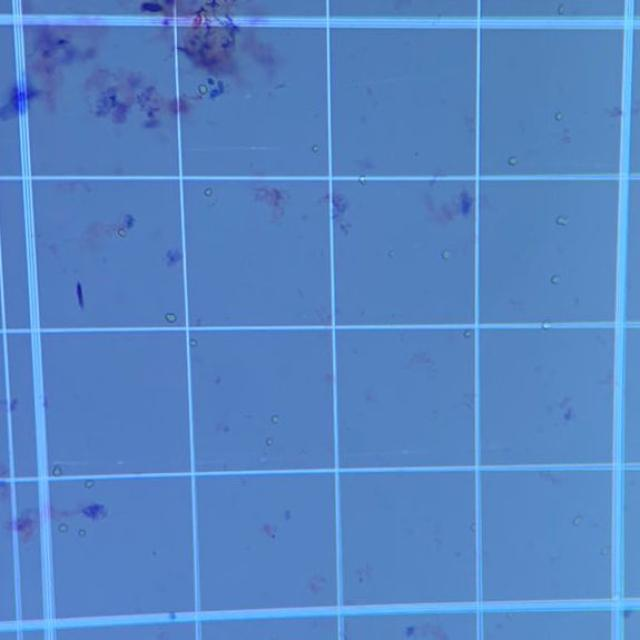Cell: (165, 249, 182, 266), (164, 312, 179, 324), (599, 546, 614, 558), (610, 590, 623, 603), (469, 522, 484, 533), (556, 216, 570, 227), (550, 274, 562, 285), (52, 465, 63, 476), (507, 155, 518, 166), (573, 515, 584, 526), (506, 608, 517, 619), (441, 250, 452, 260), (198, 84, 208, 95), (58, 523, 69, 533), (257, 455, 269, 464), (270, 414, 280, 424), (357, 175, 367, 185), (540, 321, 550, 331), (85, 479, 95, 489), (188, 338, 198, 348), (557, 4, 566, 15), (77, 528, 88, 537), (554, 111, 563, 121), (117, 228, 127, 237), (204, 187, 213, 197), (311, 144, 320, 153), (463, 329, 472, 338), (265, 437, 273, 446), (388, 250, 396, 258), (116, 461, 124, 467)
